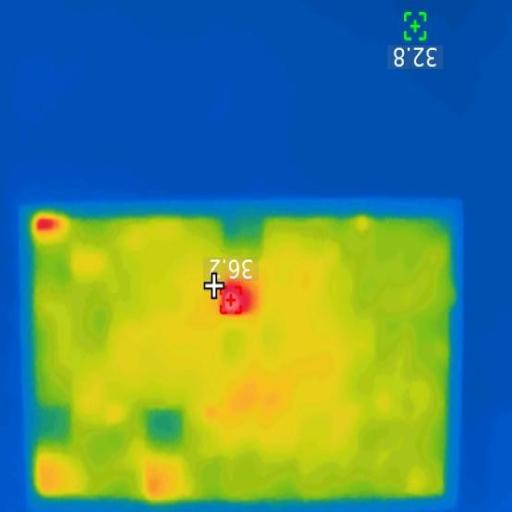hotspot: (222, 282, 254, 316), (33, 215, 56, 234)
